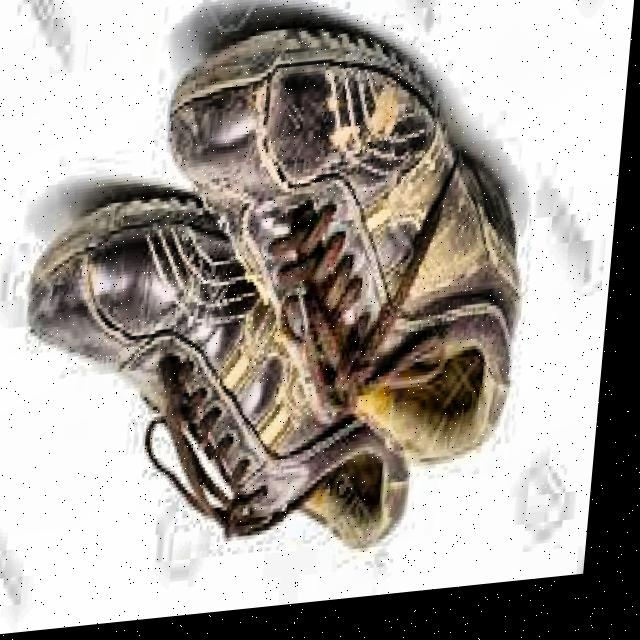shoes: (0, 6, 549, 598)
